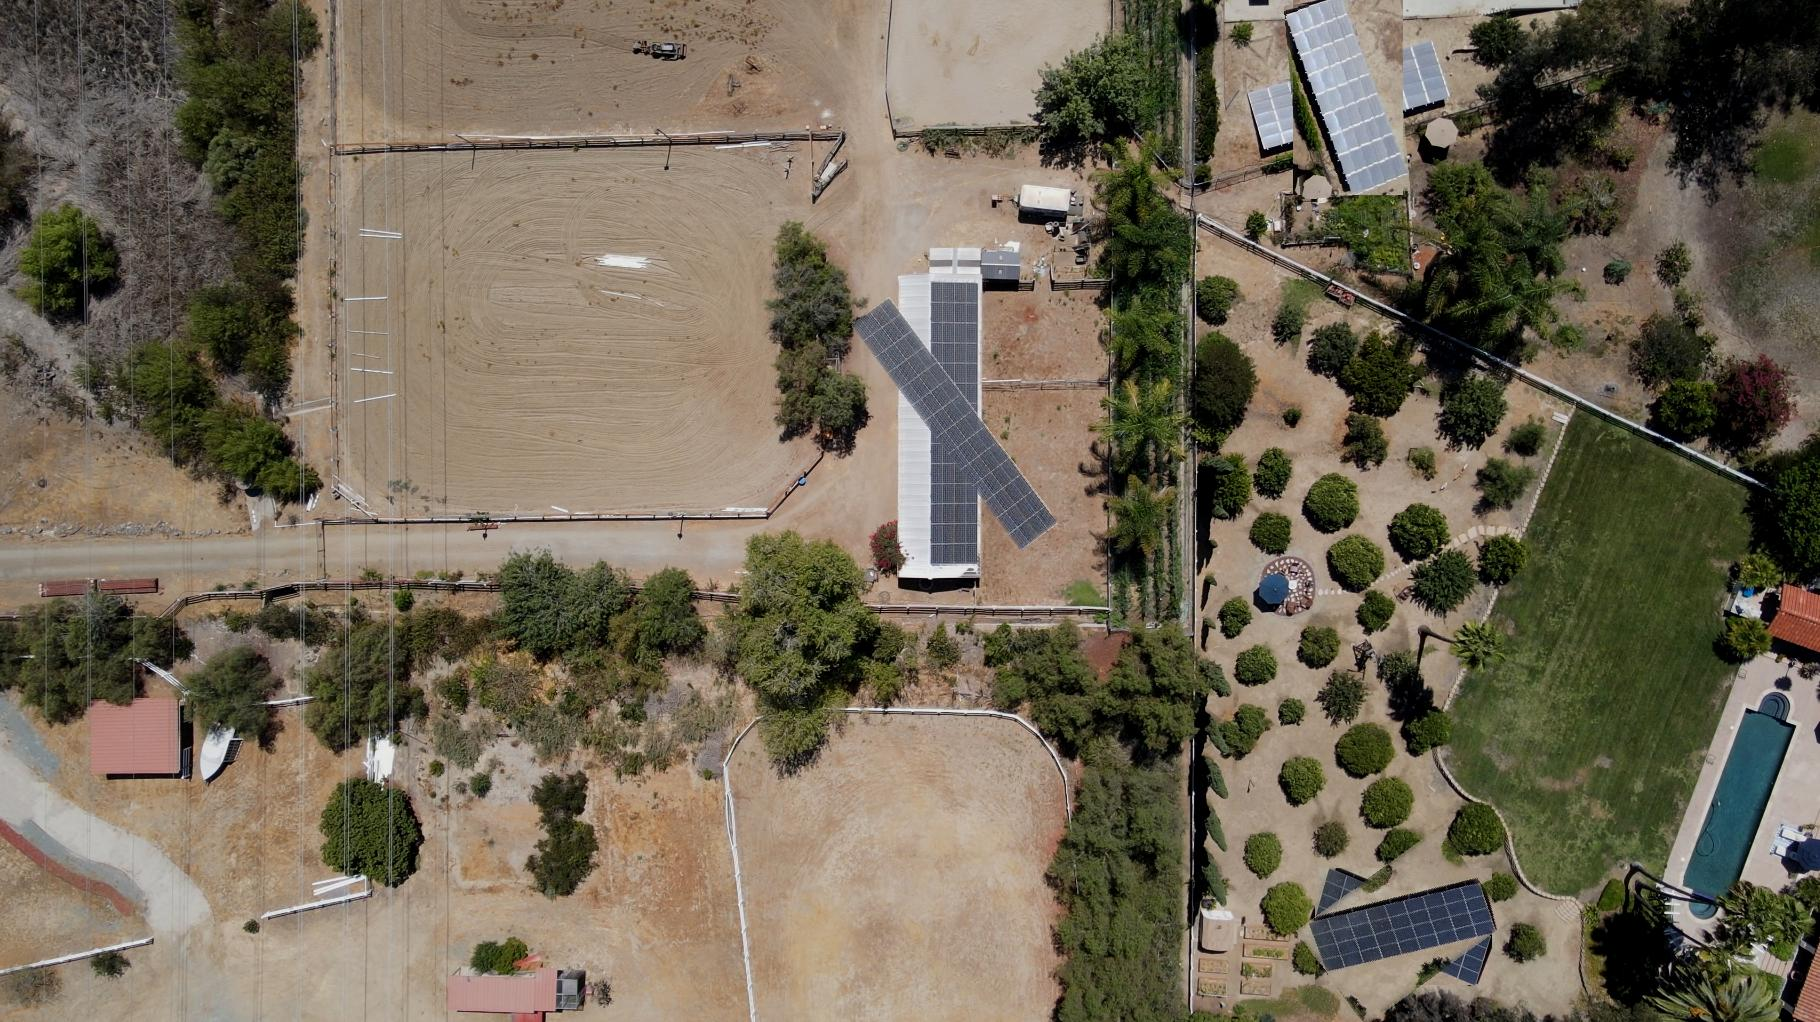solar-panels: (851, 297, 1059, 550), (1285, 0, 1410, 195), (1307, 880, 1496, 973)
